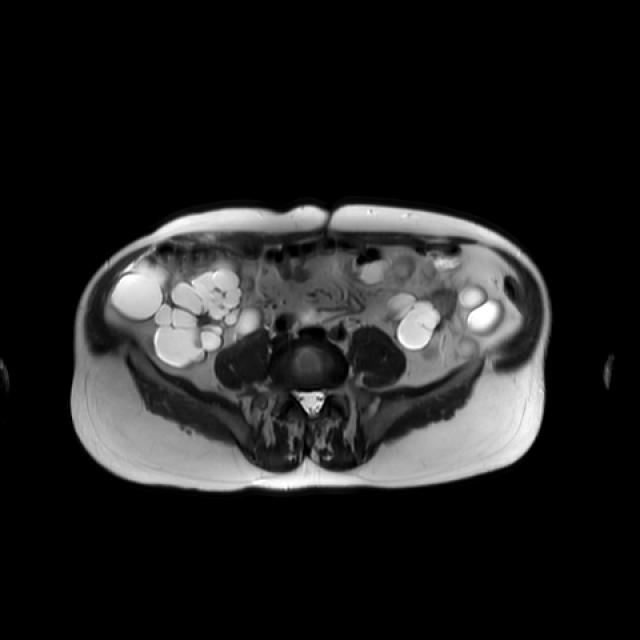sag: (107, 260, 265, 368)
sol: (383, 286, 505, 351)
